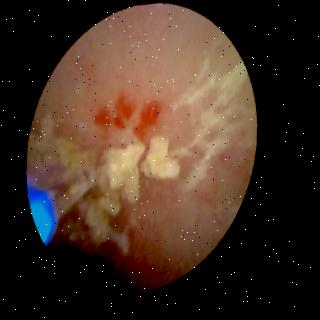fiber: (33, 191, 60, 244)
stone: (104, 146, 146, 206), (87, 197, 126, 240), (144, 139, 183, 180)
tissue: (45, 10, 255, 293)
